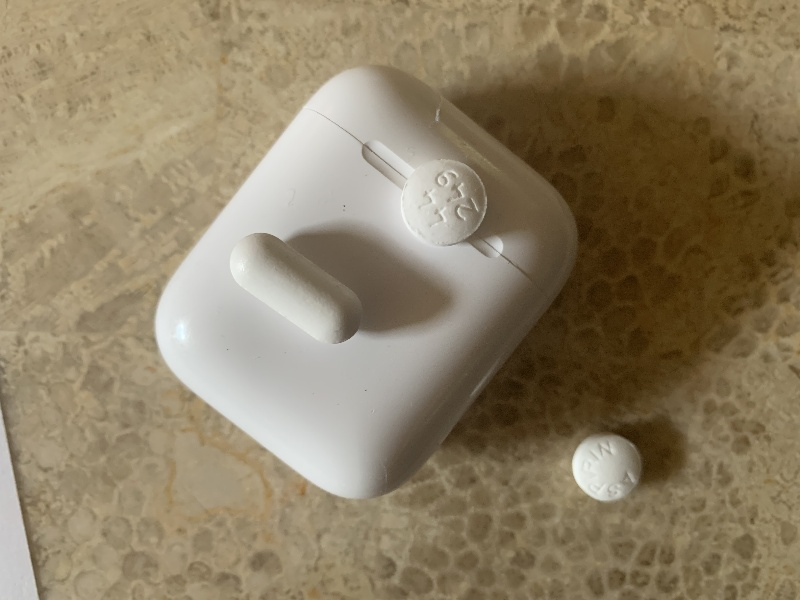Aspirin: (399, 156, 489, 248), (570, 423, 649, 506)
Tylenol: (222, 230, 367, 352)
